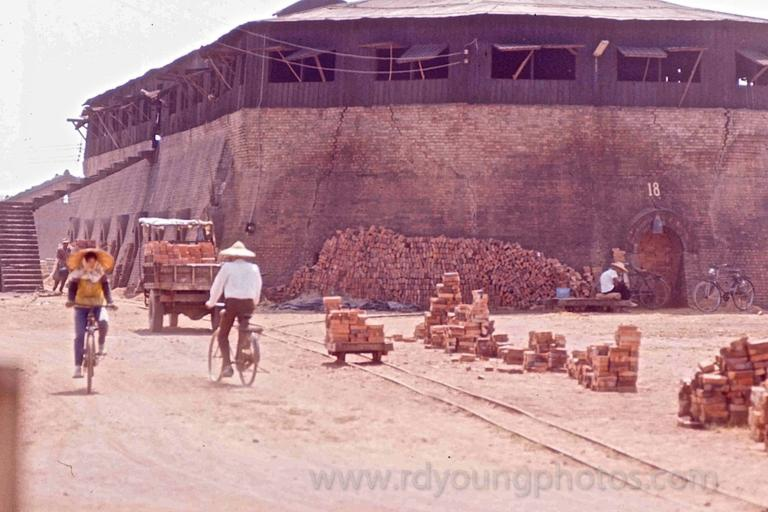non-vehicle: (65, 301, 118, 394), (205, 301, 261, 387), (693, 263, 756, 314), (626, 265, 671, 309)
